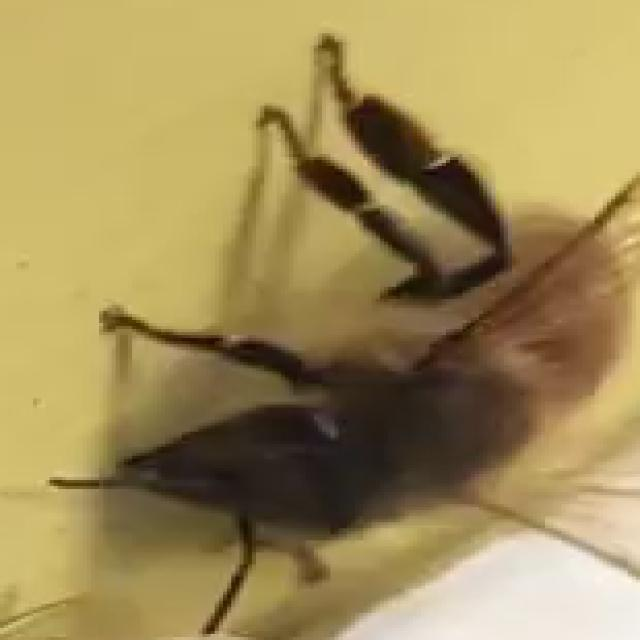honeybee: (126, 88, 622, 640)
